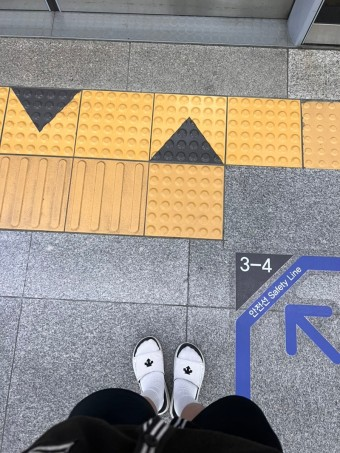guideBlock: (1, 157, 78, 235), (72, 158, 148, 230)
warningBlock: (150, 92, 231, 169), (225, 98, 303, 172), (74, 89, 152, 152), (151, 170, 225, 233), (5, 89, 75, 148), (308, 97, 340, 168)
